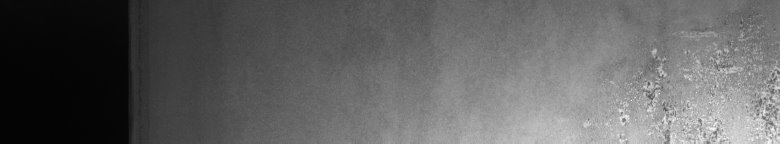hc: (606, 18, 776, 136)
